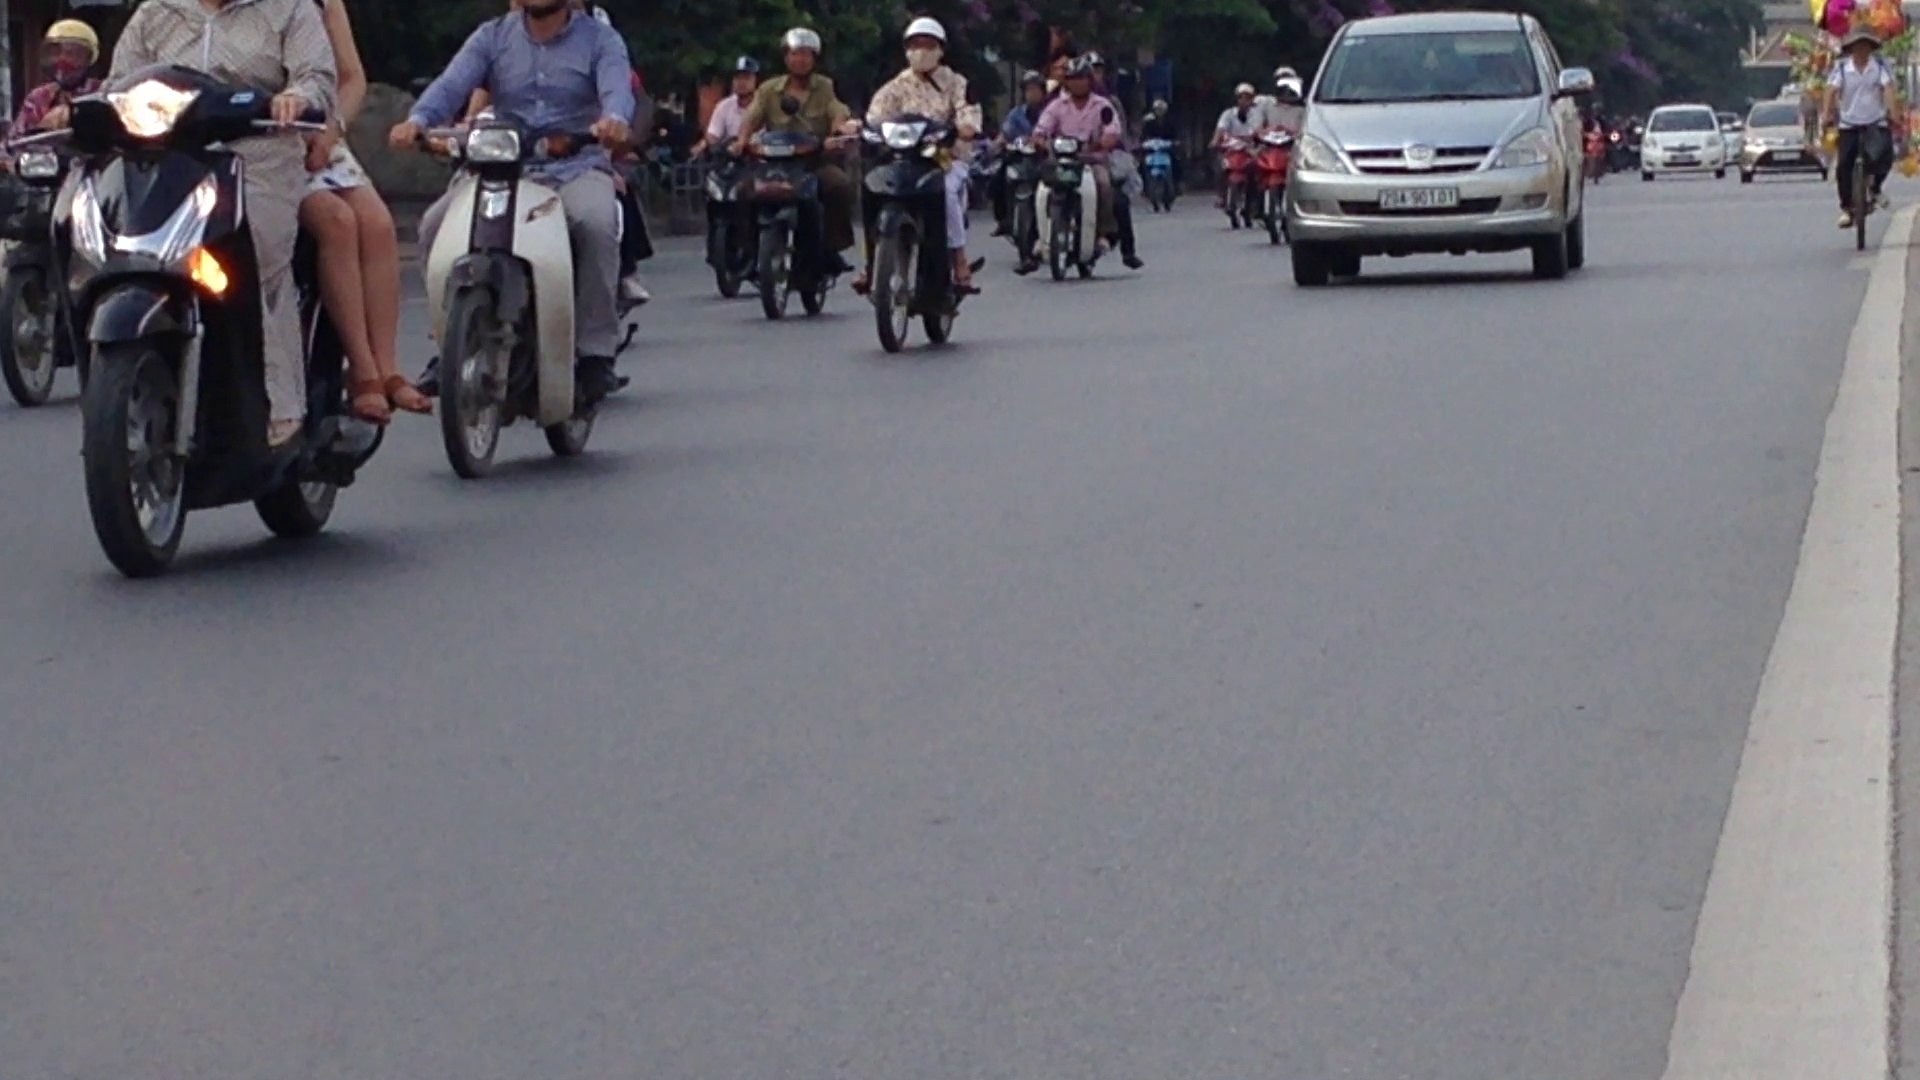person: (1371, 181, 1462, 209)
